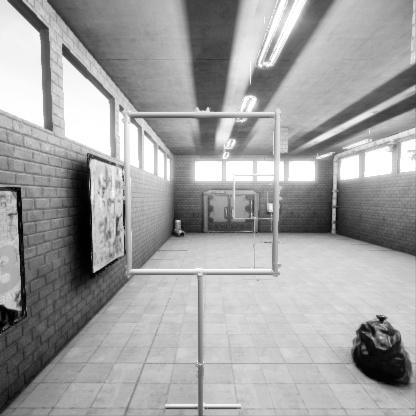gate: (130, 152, 284, 304), (234, 199, 278, 243), (267, 206, 275, 234)
